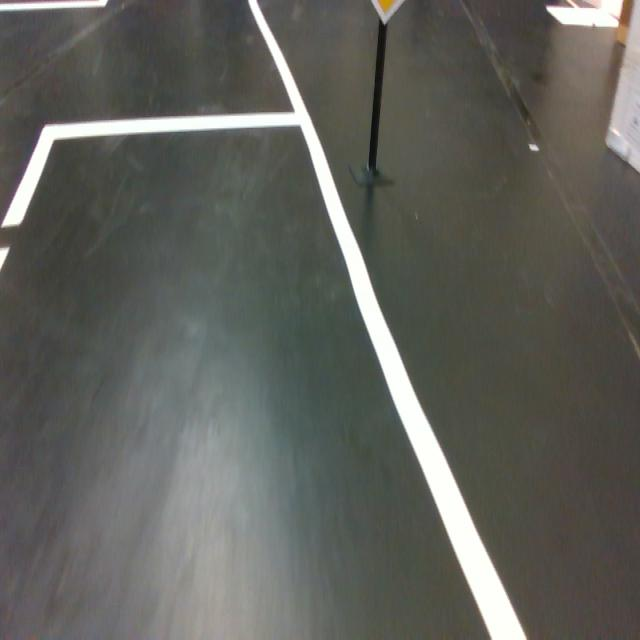priority-sign: (370, 0, 408, 26)
